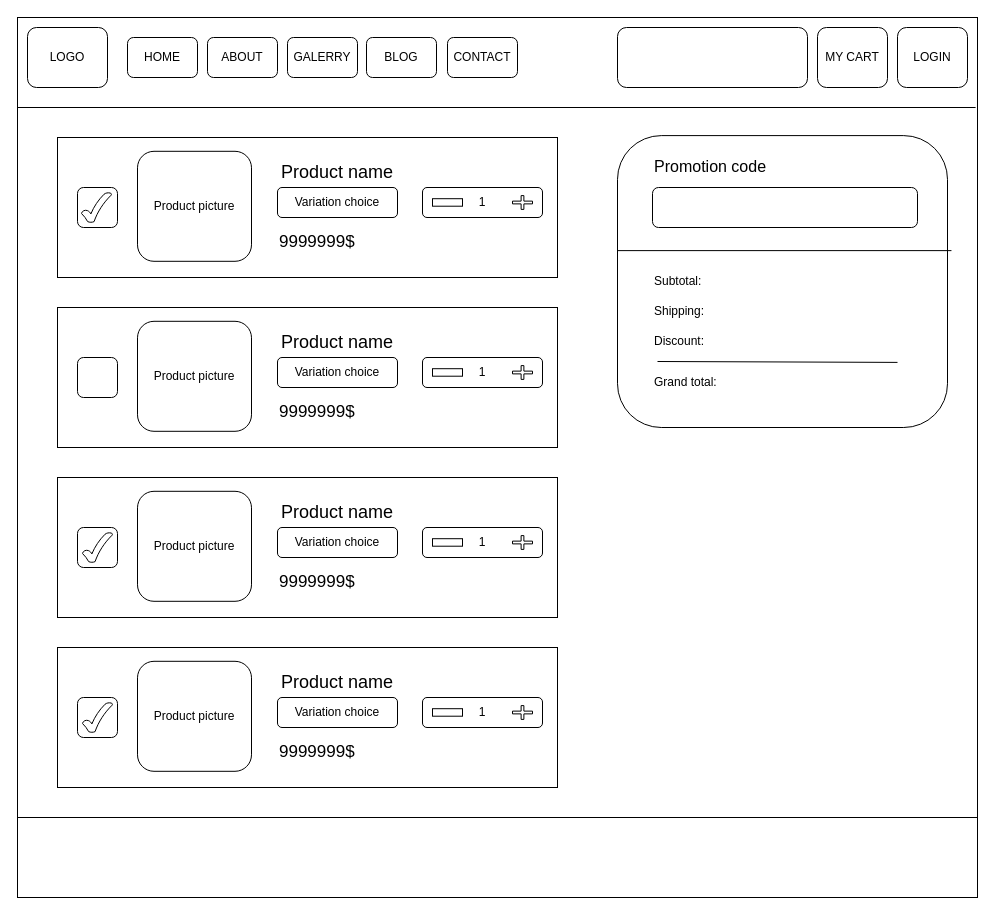
The diagram is 995 pixels wide and 915 high, and some of its shapes have lost their labels. The centre of each missing label's shape, as x and y in pixels:
"FOOTER" belongs at (497,857).
"Input field" belongs at (785,207).
"SEARCH" belongs at (712,57).
